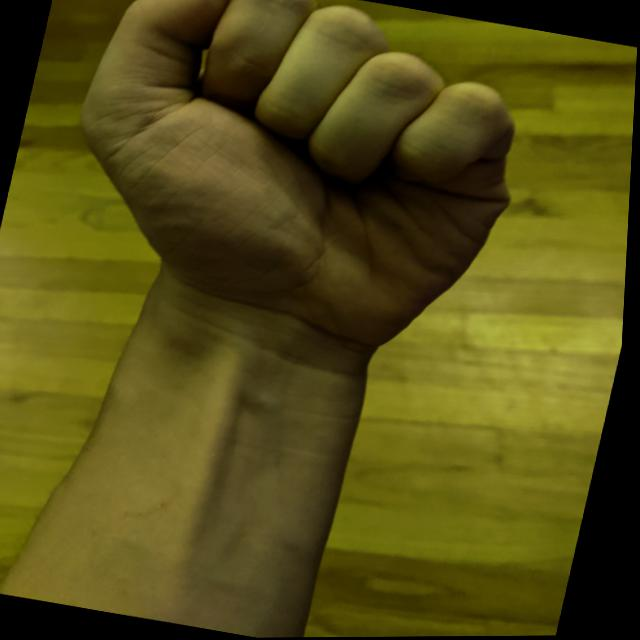A: (22, 0, 557, 390)
